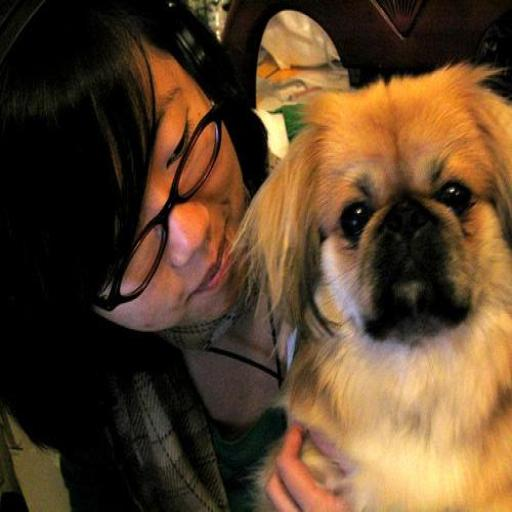dog_face: (268, 74, 511, 368)
